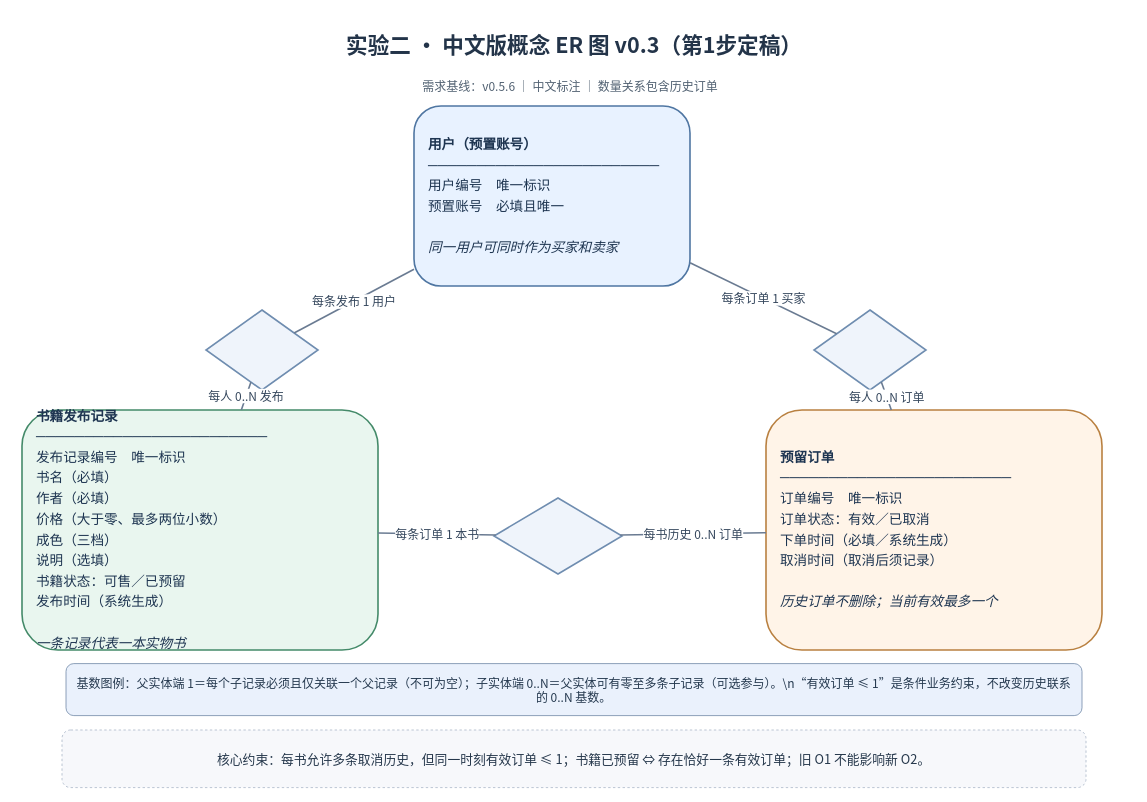
The diagram is 1147 pixels wide and 802 high, and some of its shapes have lost their labels. The centre of each missing label's shape, as x and y in pixels:
关联订单: the point at 557,535
发布: the point at 261,349
预留: the point at 869,349
